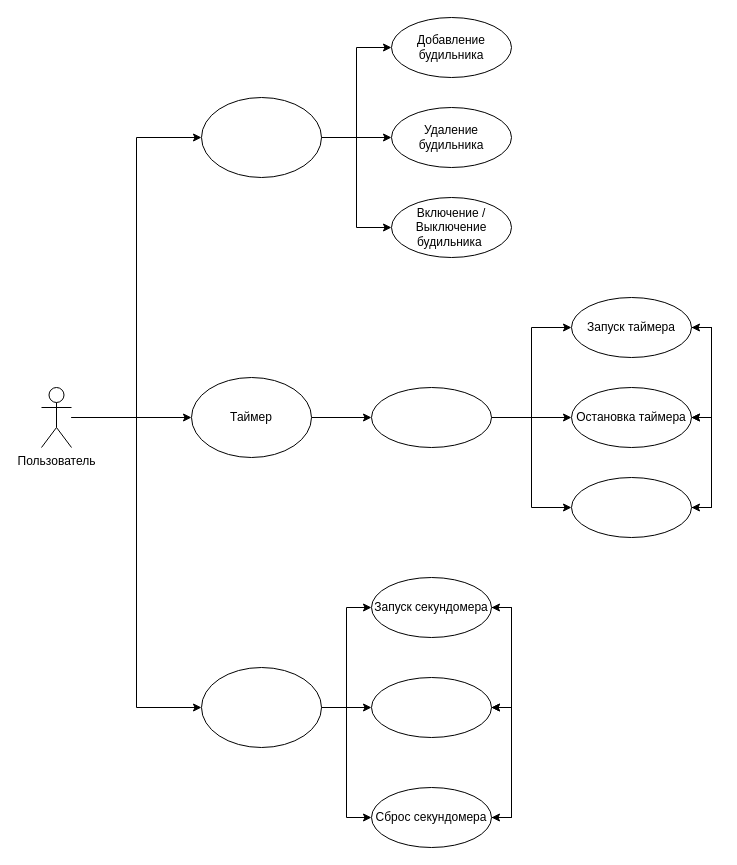
Some shapes in this 737 by 865 pixel diagram are drawn without their labels. The centre of each missing label's shape, as x and y in pixels:
"Будильник" goes at pixel 261 137.
"Ввод таймера" goes at pixel 431 417.
"Остановка секундомера" goes at pixel 431 707.
"Сброс таймера" goes at pixel 631 507.
"Секундомер" goes at pixel 261 707.
